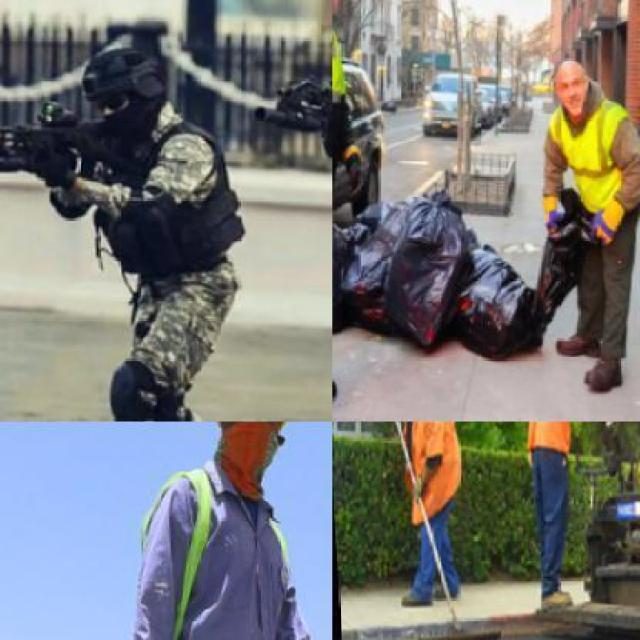Vest: (105, 456, 308, 638), (82, 125, 256, 297), (534, 112, 638, 237), (388, 422, 468, 522), (522, 422, 582, 462)
